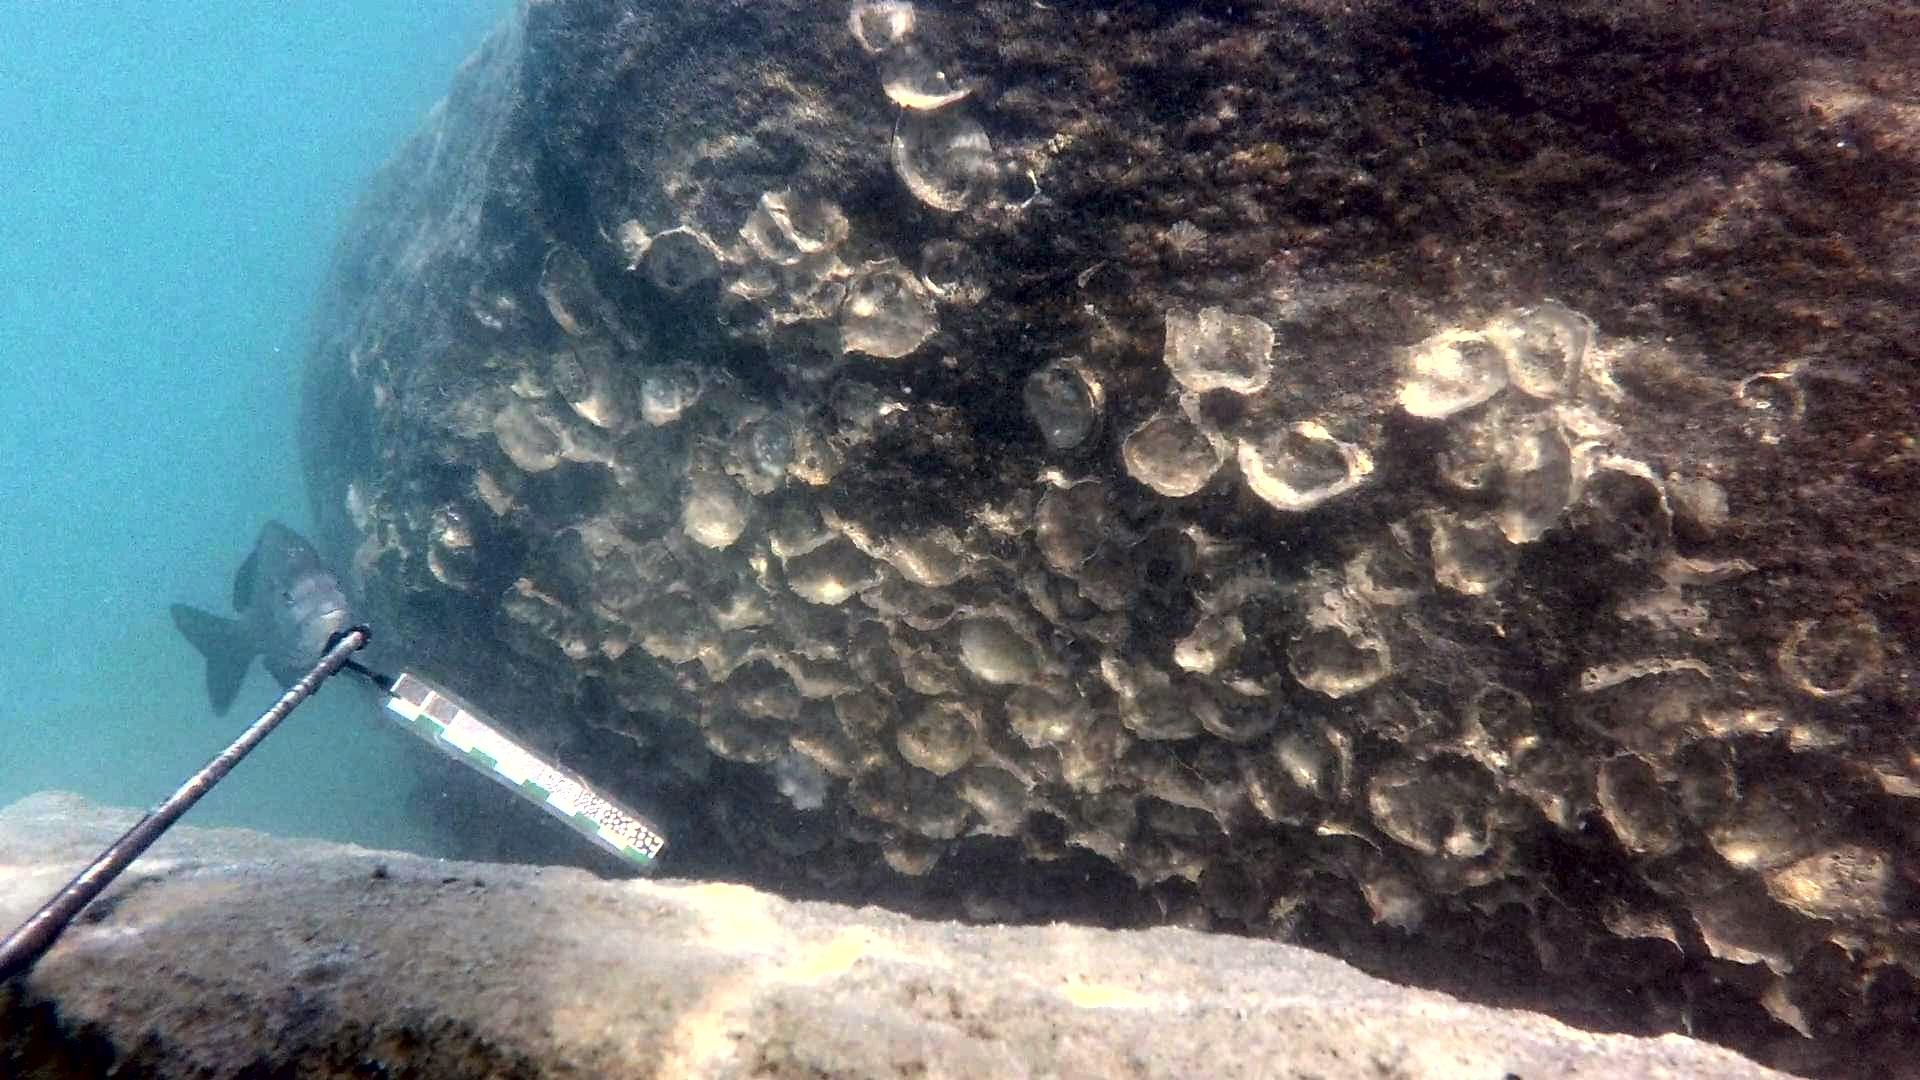acanthopagrus palmaris: (162, 509, 363, 723)
